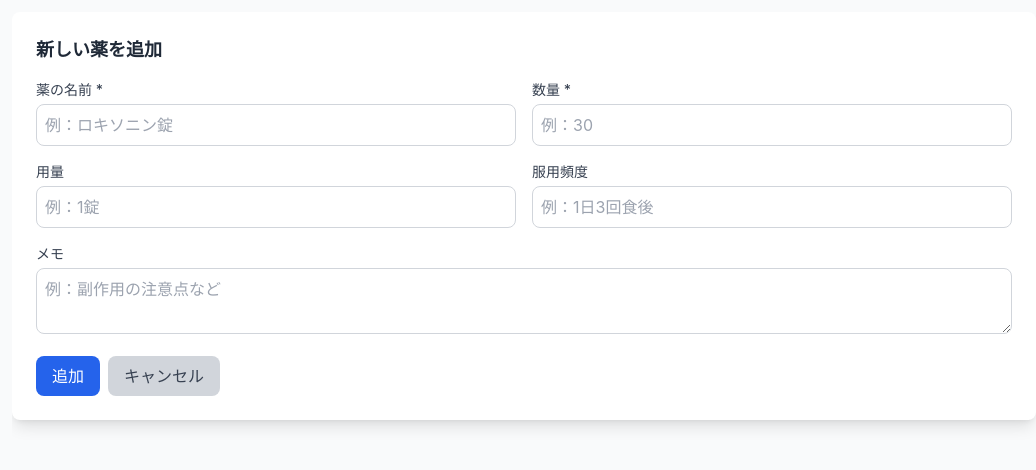
追加処方機能 - 統合テスト › 新規薬の追加処方 › 新規薬追加時のエラーハンドリング
This screenshot has width=1036, height=470.
// 必須項目のみ入力
Type "テスト薬" into the field labelled "薬の名前 *". click: (276, 125)
box: [36,104,516,146]
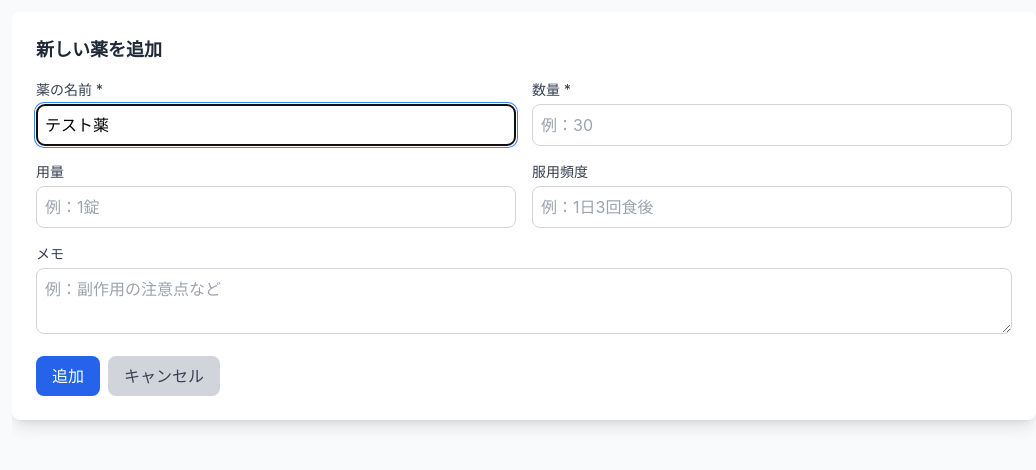
Type "10" into the number field labelled "数量 *". click: (772, 125)
box: [532,104,1012,146]
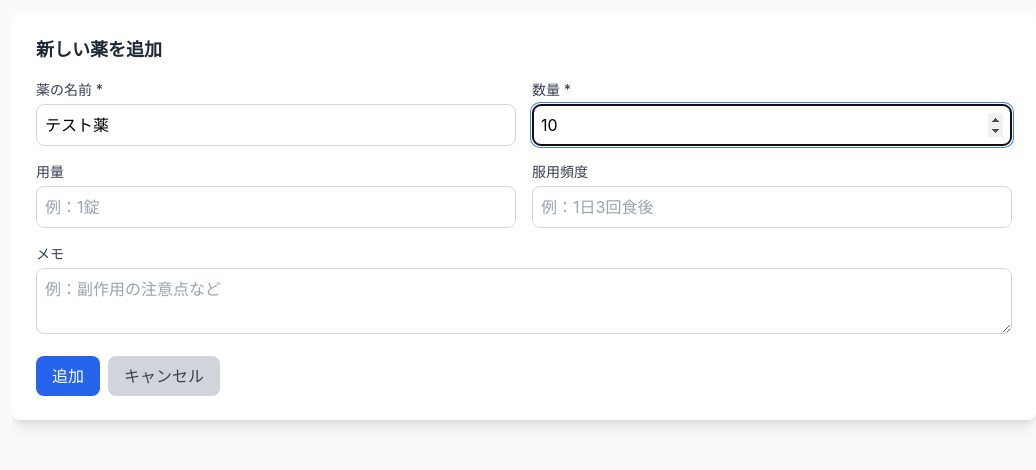
// 追加ボタンをクリック
Click the button "追加". click: (68, 376)
box: [36,356,100,396]
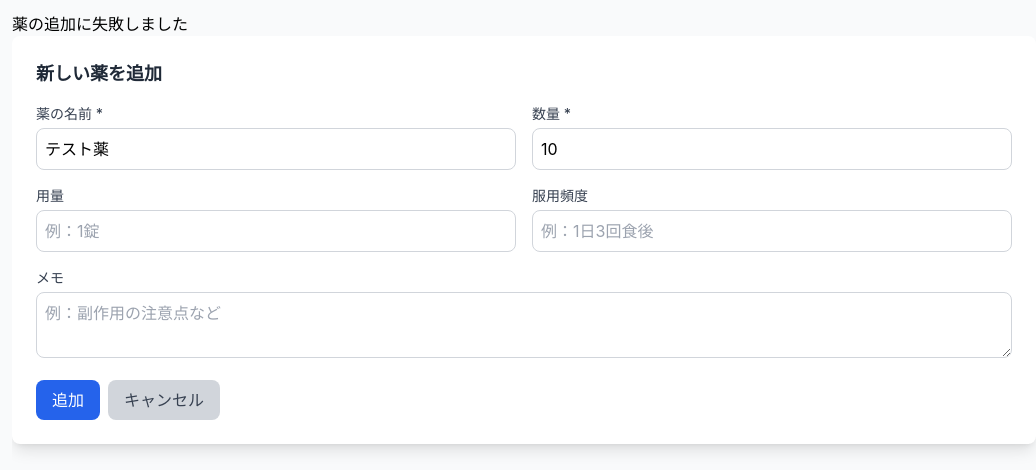
Check: the text with test id "error-message" reads "薬の追加に失敗しました", box [12,14,188,34]
